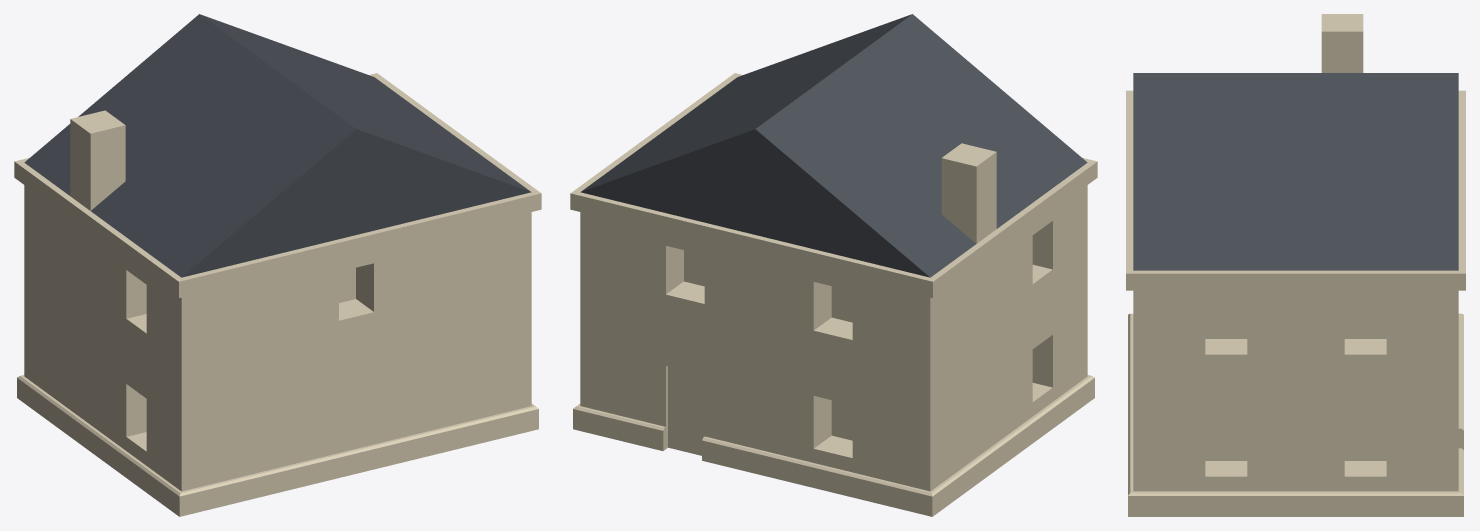
3 views of the same model, side by side, from view 1: azimuth 30°, elevation 25°; view 2: azimuth 150°, elevation 25°; view 3: azimuth 270°, elevation 25° (orthographic). The views are drawn at different scales.
Visible parts, largest first — view 1: body_plaster, roof_slate, trim_plaster, roof_plaster; view 2: body_plaster, roof_slate, trim_plaster, roof_plaster; view 3: body_plaster, roof_slate, trim_plaster, roof_plaster.
Boxes of the visible parts, x1=… form: body_plaster: x1=24, y1=123, x2=531, y2=491; roof_slate: x1=24, y1=14, x2=531, y2=277; trim_plaster: x1=14, y1=73, x2=541, y2=516; roof_plaster: x1=70, y1=110, x2=125, y2=137; body_plaster: x1=580, y1=156, x2=1087, y2=491; roof_slate: x1=580, y1=14, x2=1087, y2=277; trim_plaster: x1=570, y1=73, x2=1097, y2=516; roof_plaster: x1=941, y1=143, x2=996, y2=170; body_plaster: x1=1133, y1=36, x2=1458, y2=491; roof_slate: x1=1133, y1=73, x2=1458, y2=270; trim_plaster: x1=1126, y1=90, x2=1465, y2=516; roof_plaster: x1=1321, y1=14, x2=1363, y2=35.
Size of what is drawn, in the model's own units: 9.32 by 8.4 by 7.32.
